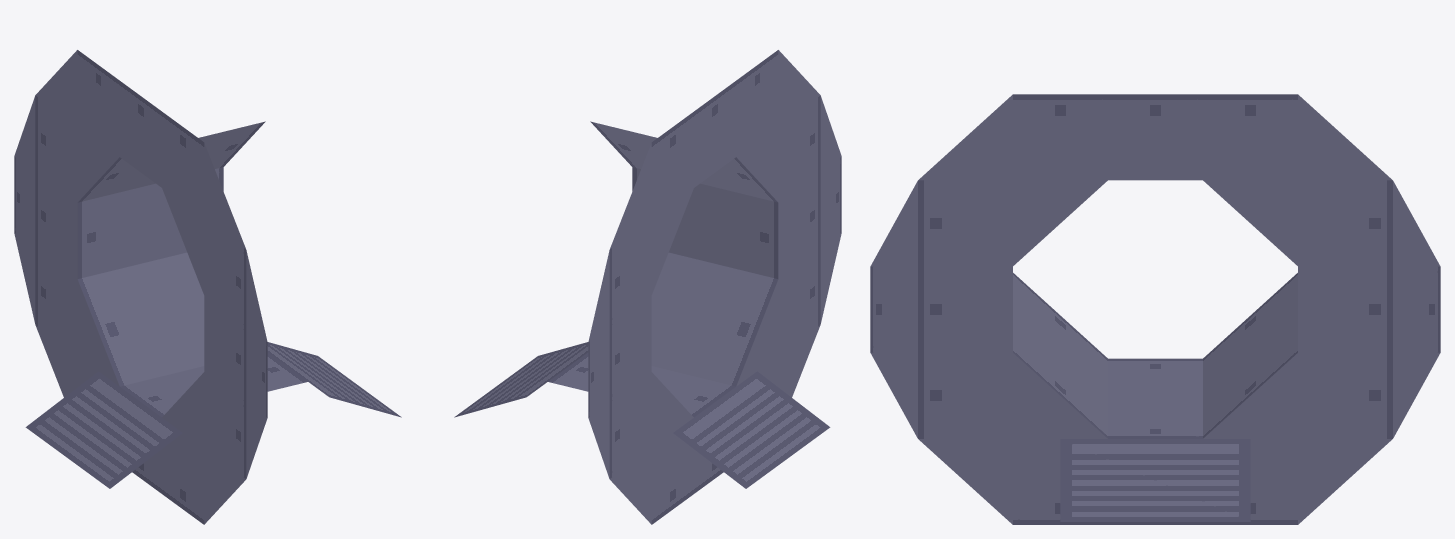
The model's file is Door_Wall.gltf.
3 views of the same model, side by side, from view 1: azimuth 30°, elevation 25°; view 2: azimuth 150°, elevation 25°; view 3: azimuth 270°, elevation 25° (orthographic). The views are drawn at different scales.
Parts seen in each view (by area): view 1: Door_Wall; view 2: Door_Wall; view 3: Door_Wall.
Boxes of the visible parts, x1,y1,x2,y2 form: Door_Wall: (14,50,401,524); Door_Wall: (454,50,841,524); Door_Wall: (870,94,1440,524).
Size of the model in its own units: 4 by 5 by 6.
1 material, 1 textured.
